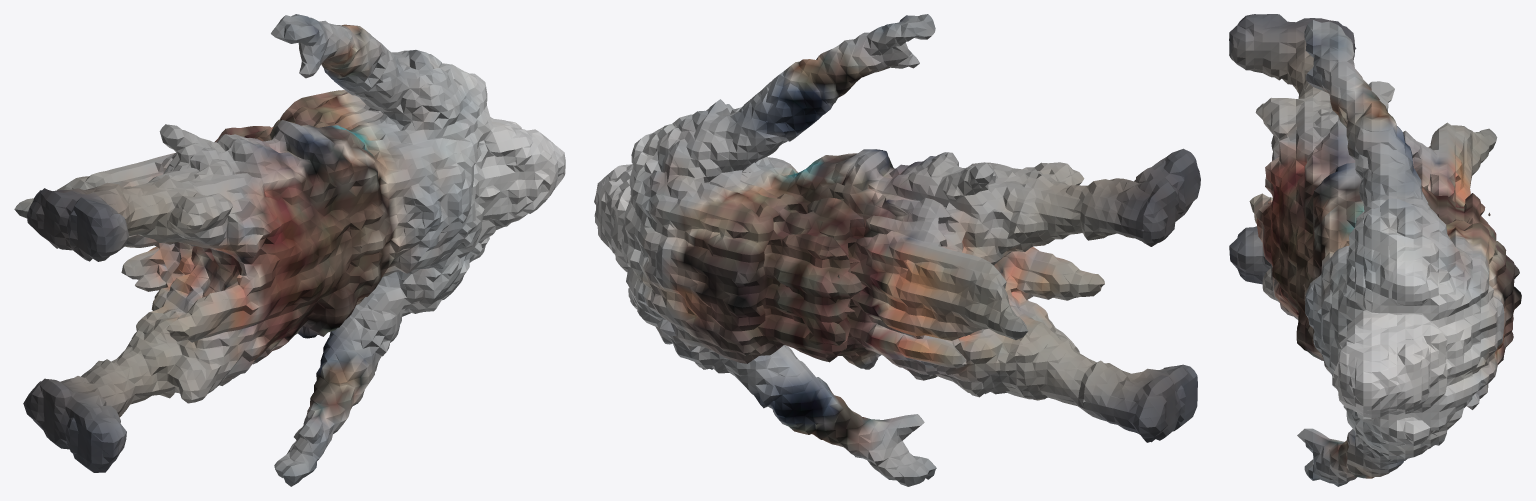
3 views of the same model, side by side, from view 1: azimuth 30°, elevation 25°; view 2: azimuth 150°, elevation 25°; view 3: azimuth 270°, elevation 25° (orthographic).
Parts seen in each view (by area): view 1: world; view 2: world; view 3: world.
Boxes of the visible parts, box(x1,y1,x2,y2) form: world: box(14, 14, 565, 486); world: box(594, 14, 1200, 486); world: box(1229, 14, 1521, 486).
Size of the model in its own units: 1.03 by 0.8279 by 0.4773.
